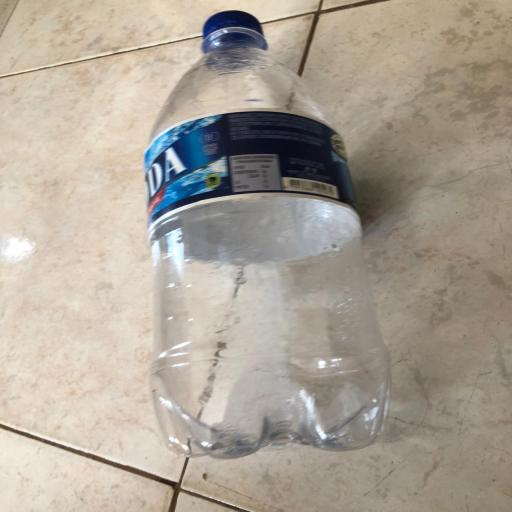waste: (136, 7, 423, 475)
